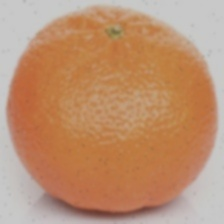orange: (49, 0, 210, 199)
